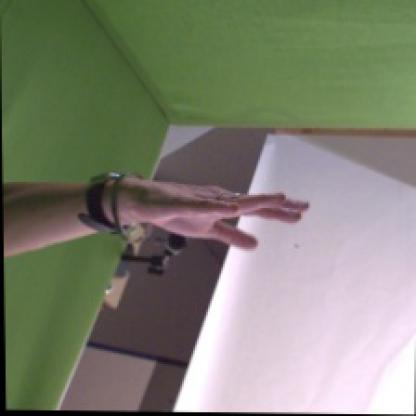Hand: (121, 177, 311, 253)
